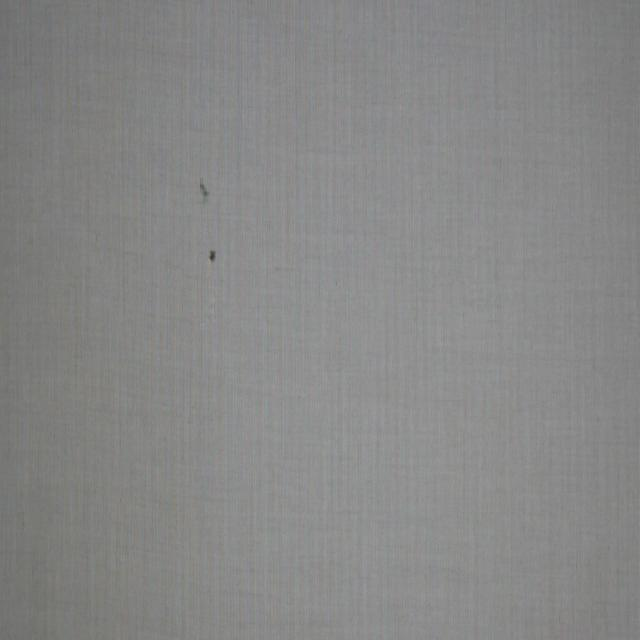dirty: (198, 176, 211, 205), (209, 248, 216, 262)
